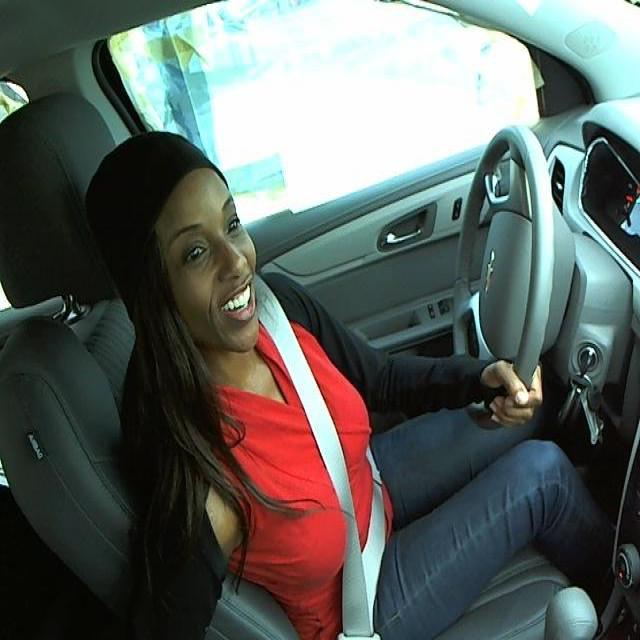seatbelt: (257, 342, 384, 590)
